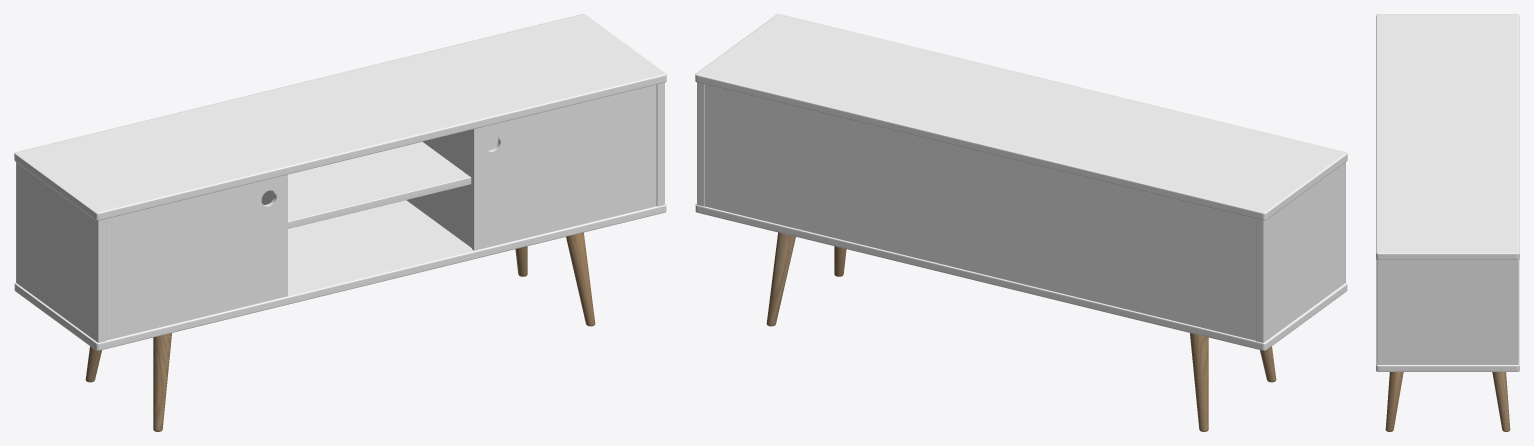
The model's file is next.glb.
3 views of the same model, side by side, from view 1: azimuth 30°, elevation 25°; view 2: azimuth 150°, elevation 25°; view 3: azimuth 270°, elevation 25° (orthographic). The views are drawn at different scales.
Visible parts, largest first — view 1: Cube.005, Cube.007, Cylinder.003; view 2: Cube.007, Cube.005, Cylinder.003; view 3: Cube.005, Cube.007, Cylinder.003.
Part boxes in pixels (left/top/right/bottom): Cube.005: left=14, top=14, right=666, bottom=350; Cube.007: left=16, top=82, right=664, bottom=342; Cylinder.003: left=85, top=232, right=595, bottom=431; Cube.007: left=697, top=82, right=1345, bottom=342; Cube.005: left=695, top=14, right=1347, bottom=350; Cylinder.003: left=766, top=232, right=1276, bottom=431; Cube.005: left=1376, top=14, right=1519, bottom=371; Cube.007: left=1377, top=260, right=1518, bottom=364; Cylinder.003: left=1385, top=372, right=1510, bottom=431.
Bounding box in the file's own units: 1.5 × 0.6007 × 0.3799.
3 materials, 3 textured.
